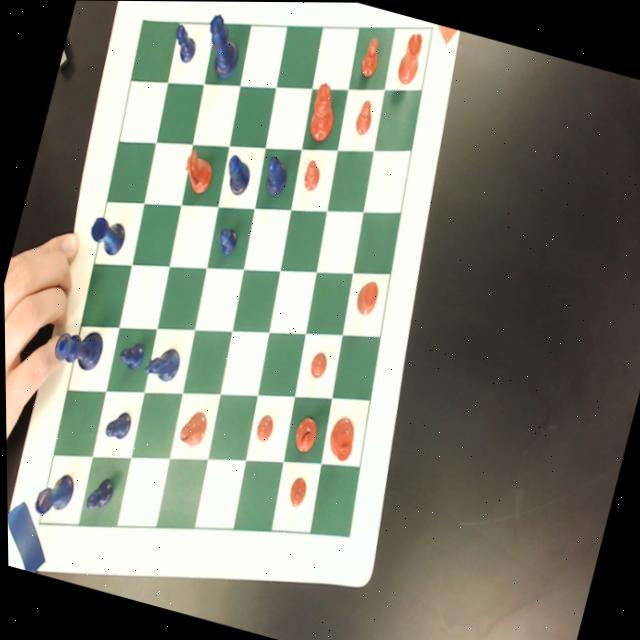B: (218, 151, 254, 198), (258, 152, 290, 198)
K: (49, 320, 105, 373)
N: (141, 341, 180, 384)
P: (80, 471, 117, 517), (167, 21, 200, 64), (100, 405, 132, 442), (114, 336, 145, 372), (214, 222, 239, 256)
Q: (196, 10, 247, 79)
R: (29, 466, 76, 521), (84, 213, 127, 255)
b: (174, 405, 208, 448), (289, 413, 318, 453)
k: (322, 411, 357, 461)
n: (176, 145, 217, 196)
p: (356, 34, 383, 79), (351, 96, 376, 136), (283, 473, 307, 509), (299, 156, 323, 191), (305, 347, 328, 381), (251, 410, 274, 443)
q: (303, 78, 342, 144)
r: (393, 28, 425, 85), (350, 276, 380, 316)
